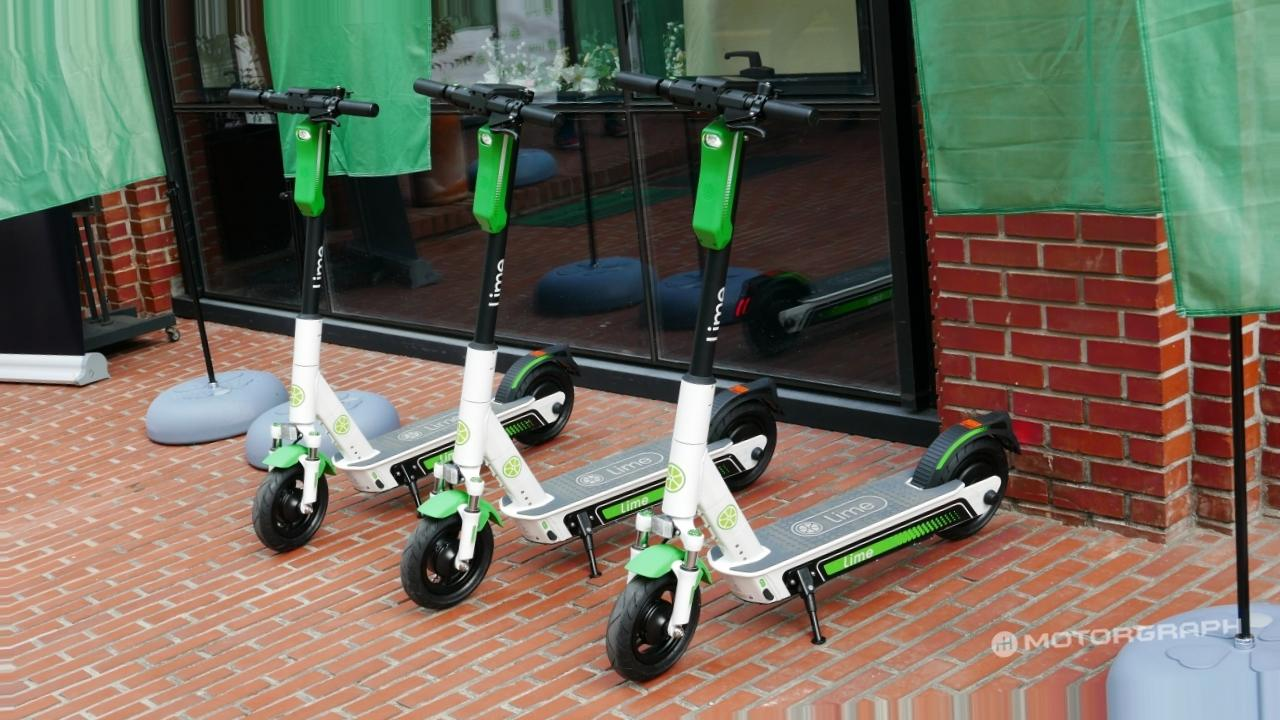scooter: (605, 50, 1023, 681), (402, 77, 783, 612), (225, 83, 580, 555)
